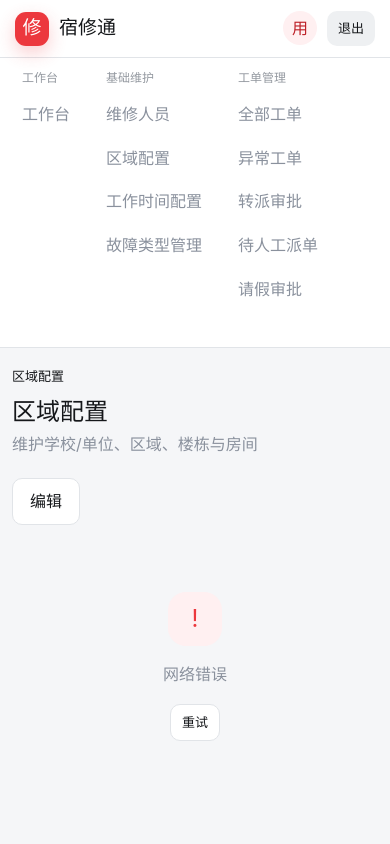
Test: 区域配置页 › 加载失败展示错误状态，点击重试重新加载
This screenshot has width=390, height=844.
Click the button "重试".
click(195, 722)  # box [170,704,220,741]
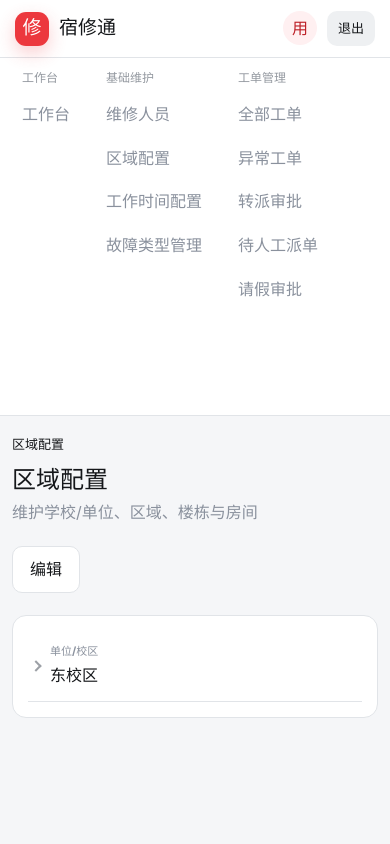
Expected: the text "东校区" is shown, [50,663,98,689]
